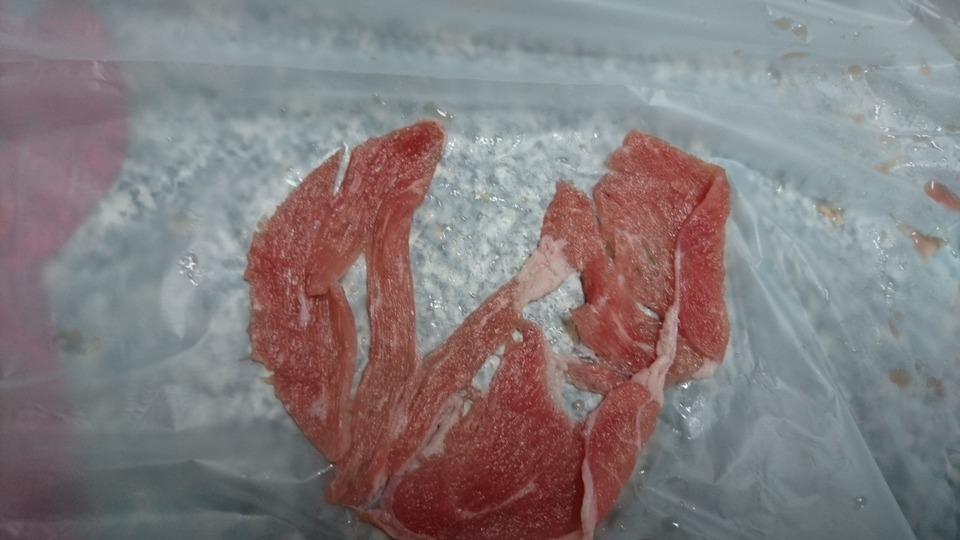restructured meat: (191, 106, 733, 529)
